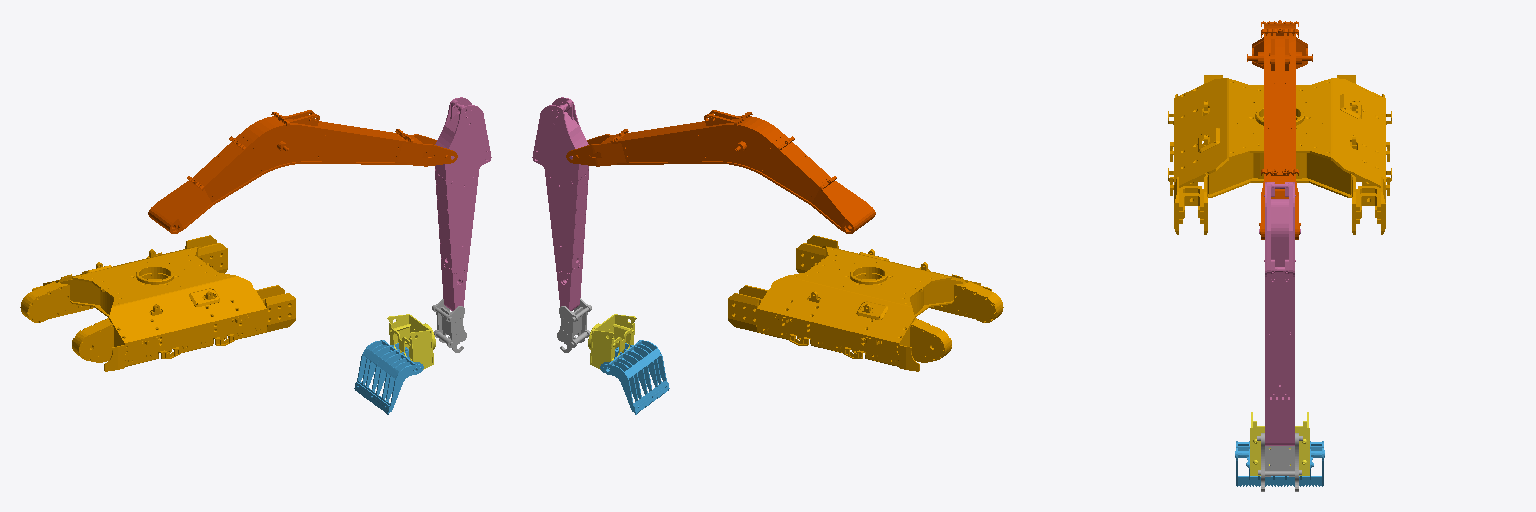
URDF robot description (excavator_urdf_ros2_ready):
<?xml version="1.0" encoding="UTF-8"?>
<!--
  excavator_urdf_ros2_ready.urdf
  Mini excavator robot description for ROS 2 / ros2_control.

  Unit conventions (URDF standard):
    Length  : metres
    Angle   : radians
    Mass    : kilograms
    Inertia : kg·m²
    Force   : N  |  Torque : N·m  |  Velocity : rad/s

  Kinematic chain (parent → child):
    excavator (base)
      └─ revolute_carriage  → upper_carriage   [continuous, Z-axis yaw]
           └─ revolute_lift → lift_boom         [revolute,   Y-axis pitch]
                └─ revolute_tilt → tilt_boom    [revolute,   Y-axis pitch]
                     └─ revolute_tool → tool_body [revolute, Y-axis pitch]
                          └─ gripper_to_tool (fixed) → gripper_mount
                               └─ revolute_gripper → gripper_frame [continuous, Z-axis spin]
                                    ├─ revolute_claw_1 → gripper_claw_1
                                    └─ revolute_claw_2 → gripper_claw_2

  Collision meshes:
    Currently pointing at the visual OBJ files (Isaac Sim export).
    Replace with dedicated convex-hull meshes once exported — see notes
    at the bottom of this file.

  ros2_control:
    Hardware plugin : mock_components/GenericSystem  (swap for real hw plugin)
    Interfaces      : position command + position/velocity state on all joints
-->
<robot name="excavator_urdf_ros2_ready">

  <!-- ═══════════════════════════════════════════════════════════════
       JOINTS
       All revolute velocity limits set to 10 RPM = 1.0472 rad/s.
       Effort limits are nominal placeholders; tune per actuator spec.
       ═══════════════════════════════════════════════════════════════ -->

  <!-- Fixed wrist bracket: attaches gripper_mount rigidly to tool_body -->
  <joint name="gripper_to_tool" type="fixed">
    <origin xyz="0.047 0.0 -0.019" rpy="0.0 0.0 0.0"/>
    <parent link="tool_body"/>
    <child link="gripper_mount"/>
  </joint>

  <!-- Slewing ring: full continuous rotation of upper carriage on base (Z) -->
  <joint name="revolute_carriage" type="continuous">
    <origin xyz="0.0 0.0 0.0" rpy="0.0 0.0 0.0"/>
    <parent link="excavator"/>
    <child link="upper_carriage"/>
    <axis xyz="0.0 0.0 1.0"/>
    <!-- continuous joints have no position limits; velocity = 10 RPM -->
    <limit effort="10000.0" velocity="1.0472"/>
  </joint>

  <!-- Gripper claw 1: opens from 0 to ~50 deg (positive direction) -->
  <joint name="revolute_claw_1" type="revolute">
    <origin xyz="0.0 0.025 -0.038" rpy="0.0 0.0 0.0"/>
    <parent link="gripper_frame"/>
    <child link="gripper_claw_1"/>
    <axis xyz="1.0 0.0 0.0"/>
    <limit lower="0.0" upper="0.8726646" effort="10000.0" velocity="1.0472"/>
  </joint>

  <!-- Gripper claw 2: mirrors claw 1 (negative direction) -->
  <joint name="revolute_claw_2" type="revolute">
    <origin xyz="0.0 -0.025 -0.038" rpy="0.0 0.0 0.0"/>
    <parent link="gripper_frame"/>
    <child link="gripper_claw_2"/>
    <axis xyz="1.0 0.0 0.0"/>
    <limit lower="-0.8726646" upper="0.0" effort="10000.0" velocity="1.0472"/>
  </joint>

  <!-- Gripper spin: continuous rotation of gripper frame around tool Z-axis -->
  <joint name="revolute_gripper" type="continuous">
    <origin xyz="-0.0105 0.0 -0.025" rpy="0.0 0.0 -1.5707964"/>
    <parent link="gripper_mount"/>
    <child link="gripper_frame"/>
    <axis xyz="0.0 0.0 1.0"/>
    <!-- continuous joints have no position limits; velocity = 10 RPM -->
    <limit effort="10000.0" velocity="1.0472"/>
  </joint>

  <!-- Lift boom: main shoulder pitch joint; initial pose ~ -0.7 rad -->
  <joint name="revolute_lift" type="revolute">
    <origin xyz="0.0165 0.0 0.0785" rpy="0.0 -0.455181869 0.0"/>
    <parent link="upper_carriage"/>
    <child link="lift_boom"/>
    <axis xyz="0.0 1.0 0.0"/>
    <limit lower="-0.8726646" upper="0.5235988" effort="10000.0" velocity="1.0472"/>
  </joint>

  <!-- Tilt boom: elbow pitch joint; initial pose ~ 2.2 rad -->
  <joint name="revolute_tilt" type="revolute">
    <origin xyz="0.42008 0.0 -0.20564" rpy="0.0 0.455181869 0.0"/>
    <parent link="lift_boom"/>
    <child link="tilt_boom"/>
    <axis xyz="0.0 1.0 0.0"/>
    <limit lower="0.4886922" upper="2.5132741" effort="10000.0" velocity="1.0472"/>
  </joint>

  <!-- Tool pitch: wrist pitch joint; initial pose ~ -0.7 rad -->
  <joint name="revolute_tool" type="revolute">
    <origin xyz="0.2499999 0.0 -0.0025" rpy="0.0 0.0 0.0"/>
    <parent link="tilt_boom"/>
    <child link="tool_body"/>
    <axis xyz="0.0 1.0 0.0"/>
    <limit lower="-1.4835299" upper="1.2217305" effort="10000.0" velocity="1.0472"/>
  </joint>


  <!-- ═══════════════════════════════════════════════════════════════
       LINKS
       Each link carries: inertial, visual (OBJ), and collision (OBJ).
       NOTE: collision meshes currently reuse visual OBJs — see notes
       at the bottom for the recommended replacement workflow.
       ═══════════════════════════════════════════════════════════════ -->

  <!-- Base link: lower chassis / tracks; treated as world-fixed in simulation -->
  <link name="excavator">
    <inertial>
      <origin xyz="0.0045939 -0.0001728 -0.0382546" rpy="0.0 0.0 0.0"/>
      <mass value="6.5"/>
      <inertia ixx="0.049442"  ixy="0.0005321"  ixz="0.0005431"
               iyy="0.0529756" iyz="-0.0000344"
               izz="0.0970931"/>
    </inertial>
    <visual>
      <!-- Isaac Sim exports Y-up OBJs; -90 deg roll corrects to Z-up URDF convention -->
      <origin xyz="0.0 0.0 0.0" rpy="-1.5707964 0.0 0.0"/>
      <geometry>
        <mesh filename="package://kaivuri_description/robot/meshes/excavator_visuals_Mesh.obj" scale="1.0 1.0 1.0"/>
      </geometry>
    </visual>
    <collision>
      <!-- TODO: replace with dedicated convex-hull mesh (see file notes) -->
      <origin xyz="0.0 0.0 0.0" rpy="-1.5707964 0.0 0.0"/>
      <geometry>
        <mesh filename="package://kaivuri_description/robot/meshes/excavator_visuals_Mesh.obj" scale="1.0 1.0 1.0"/>
      </geometry>
    </collision>
  </link>

  <!-- Gripper claw 1 (opens in +X direction) -->
  <link name="gripper_claw_1">
    <inertial>
      <origin xyz="-0.00019 0.0062462 -0.0327046" rpy="0.0 0.0 0.0"/>
      <mass value="0.21596"/>
      <inertia ixx="0.0001736"  ixy="-0.0000001" ixz="0.0000012"
               iyy="0.0003253"  iyz="-0.0000481"
               izz="0.000232"/>
    </inertial>
    <visual>
      <origin xyz="0.0 0.0 0.0" rpy="0.0 0.6283185 -1.5707964"/>
      <geometry>
        <mesh filename="package://kaivuri_description/robot/meshes/gripper_claw_1_visuals_Mesh.obj" scale="1.0 1.0 1.0"/>
      </geometry>
    </visual>
    <collision>
      <!-- TODO: replace with dedicated convex-hull mesh (see file notes) -->
      <origin xyz="0.0 0.0 0.0" rpy="0.0 0.6283185 -1.5707964"/>
      <geometry>
        <mesh filename="package://kaivuri_description/robot/meshes/gripper_claw_1_visuals_Mesh.obj" scale="1.0 1.0 1.0"/>
      </geometry>
    </collision>
  </link>

  <!-- Gripper claw 2 (opens in -X direction, symmetric to claw 1) -->
  <link name="gripper_claw_2">
    <inertial>
      <origin xyz="0.00019 -0.0062462 -0.0327046" rpy="0.0 0.0 0.0"/>
      <mass value="0.21596"/>
      <inertia ixx="0.0001736"  ixy="-0.0000001" ixz="-0.0000012"
               iyy="0.0003253"  iyz="0.0000481"
               izz="0.000232"/>
    </inertial>
    <visual>
      <origin xyz="0.0 0.0 0.0" rpy="0.0 0.6283185 1.5707964"/>
      <geometry>
        <mesh filename="package://kaivuri_description/robot/meshes/gripper_claw_2_visuals_Mesh.obj" scale="1.0 1.0 1.0"/>
      </geometry>
    </visual>
    <collision>
      <!-- TODO: replace with dedicated convex-hull mesh (see file notes) -->
      <origin xyz="0.0 0.0 0.0" rpy="0.0 0.6283185 1.5707964"/>
      <geometry>
        <mesh filename="package://kaivuri_description/robot/meshes/gripper_claw_2_visuals_Mesh.obj" scale="1.0 1.0 1.0"/>
      </geometry>
    </collision>
  </link>

  <!-- Gripper frame: structural ring connecting the two claws -->
  <link name="gripper_frame">
    <inertial>
      <origin xyz="0.0 0.0 -0.02261" rpy="0.0 0.0 0.0"/>
      <mass value="0.07586"/>
      <inertia ixx="0.0000321" ixy="0.0" ixz="0.0"
               iyy="0.0000572" iyz="0.0"
               izz="0.0000607"/>
    </inertial>
    <visual>
      <origin xyz="0.0 0.0 0.0" rpy="0.0 0.0 0.0"/>
      <geometry>
        <mesh filename="package://kaivuri_description/robot/meshes/gripper_frame_visuals_Mesh.obj" scale="1.0 1.0 1.0"/>
      </geometry>
    </visual>
    <collision>
      <!-- TODO: replace with dedicated convex-hull mesh (see file notes) -->
      <origin xyz="0.0 0.0 0.0" rpy="0.0 0.0 0.0"/>
      <geometry>
        <mesh filename="package://kaivuri_description/robot/meshes/gripper_frame_visuals_Mesh.obj" scale="1.0 1.0 1.0"/>
      </geometry>
    </collision>
  </link>

  <!-- Gripper mount: bracket that interfaces tool_body to gripper_frame -->
  <link name="gripper_mount">
    <inertial>
      <origin xyz="-0.01131 0.0 -0.01542" rpy="0.0 0.0 0.0"/>
      <mass value="0.06983"/>
      <inertia ixx="0.0000177" ixy="0.0"       ixz="0.0000006"
               iyy="0.0000127" iyz="0.0"
               izz="0.0000198"/>
    </inertial>
    <visual>
      <origin xyz="0.0 0.0 0.0" rpy="0.0 0.0 0.0"/>
      <geometry>
        <mesh filename="package://kaivuri_description/robot/meshes/gripper_mount_visuals_Mesh.obj" scale="1.0 1.0 1.0"/>
      </geometry>
    </visual>
    <collision>
      <!-- TODO: replace with dedicated convex-hull mesh (see file notes) -->
      <origin xyz="0.0 0.0 0.0" rpy="0.0 0.0 0.0"/>
      <geometry>
        <mesh filename="package://kaivuri_description/robot/meshes/gripper_mount_visuals_Mesh.obj" scale="1.0 1.0 1.0"/>
      </geometry>
    </collision>
  </link>

  <!-- Lift boom: main arm segment from shoulder to elbow (~0.42 m long) -->
  <link name="lift_boom">
    <inertial>
      <origin xyz="0.199811 -0.000094 -0.044468" rpy="0.0 0.0 0.0"/>
      <mass value="1.15299"/>
      <inertia ixx="0.0049344" ixy="0.0000021" ixz="0.0072827"
               iyy="0.021352"  iyz="0.0000036"
               izz="0.0167196"/>
    </inertial>
    <visual>
      <origin xyz="0.0 0.0 0.0" rpy="0.0 0.0 0.0"/>
      <geometry>
        <mesh filename="package://kaivuri_description/robot/meshes/lift_boom_visuals_Mesh.obj" scale="1.0 1.0 1.0"/>
      </geometry>
    </visual>
    <collision>
      <!-- TODO: replace with dedicated convex-hull mesh (see file notes) -->
      <origin xyz="0.0 0.0 0.0" rpy="0.0 0.0 0.0"/>
      <geometry>
        <mesh filename="package://kaivuri_description/robot/meshes/lift_boom_visuals_Mesh.obj" scale="1.0 1.0 1.0"/>
      </geometry>
    </collision>
  </link>

  <!-- Tilt boom: forearm segment from elbow to wrist (~0.25 m long) -->
  <link name="tilt_boom">
    <inertial>
      <origin xyz="0.06505 -0.00005 0.01784" rpy="0.0 0.0 0.0"/>
      <mass value="0.77626"/>
      <inertia ixx="0.00036"   ixy="0.0"  ixz="0.000676"
               iyy="0.0060442" iyz="0.0"
               izz="0.005863"/>
    </inertial>
    <visual>
      <origin xyz="0.0 0.0 0.0" rpy="0.0 0.0 0.0"/>
      <geometry>
        <mesh filename="package://kaivuri_description/robot/meshes/tilt_boom_visuals_Mesh.obj" scale="1.0 1.0 1.0"/>
      </geometry>
    </visual>
    <collision>
      <!-- TODO: replace with dedicated convex-hull mesh (see file notes) -->
      <origin xyz="0.0 0.0 0.0" rpy="0.0 0.0 0.0"/>
      <geometry>
        <mesh filename="package://kaivuri_description/robot/meshes/tilt_boom_visuals_Mesh.obj" scale="1.0 1.0 1.0"/>
      </geometry>
    </collision>
  </link>

  <!-- Tool body: quick-coupler / tool interface plate -->
  <link name="tool_body">
    <inertial>
      <origin xyz="0.0265998 0.0 -0.0101976" rpy="0.0 0.0 0.0"/>
      <mass value="0.137"/>
      <inertia ixx="0.0000403" ixy="0.0"       ixz="0.0000048"
               iyy="0.0000601" iyz="0.0"
               izz="0.0000815"/>
    </inertial>
    <visual>
      <origin xyz="0.0 0.0 0.0" rpy="0.0 0.0 0.0"/>
      <geometry>
        <mesh filename="package://kaivuri_description/robot/meshes/tool_body_visuals_Mesh.obj" scale="1.0 1.0 1.0"/>
      </geometry>
    </visual>
    <collision>
      <!-- TODO: replace with dedicated convex-hull mesh (see file notes) -->
      <origin xyz="0.0 0.0 0.0" rpy="0.0 0.0 0.0"/>
      <geometry>
        <mesh filename="package://kaivuri_description/robot/meshes/tool_body_visuals_Mesh.obj" scale="1.0 1.0 1.0"/>
      </geometry>
    </collision>
  </link>

  <!-- Upper carriage: rotating superstructure (cabin, engine, arm base) -->
  <link name="upper_carriage">
    <inertial>
      <origin xyz="-0.0821657 0.0013232 0.0460171" rpy="0.0 0.0 0.0"/>
      <mass value="8.1"/>
      <inertia ixx="0.0446463"  ixy="-0.0058658" ixz="0.0002102"
               iyy="0.0700401"  iyz="-0.0020342"
               izz="0.095637"/>
    </inertial>
    <visual>
      <!-- Isaac Sim Y-up correction: -90 deg roll -->
      <origin xyz="0.0 0.0 0.0" rpy="-1.5707964 0.0 0.0"/>
      <geometry>
        <mesh filename="package://kaivuri_description/robot/meshes/upper_carriage_visuals_Mesh.obj" scale="1.0 1.0 1.0"/>
      </geometry>
    </visual>
    <collision>
      <!-- TODO: replace with dedicated convex-hull mesh (see file notes) -->
      <origin xyz="0.0 0.0 0.0" rpy="-1.5707964 0.0 0.0"/>
      <geometry>
        <mesh filename="package://kaivuri_description/robot/meshes/upper_carriage_visuals_Mesh.obj" scale="1.0 1.0 1.0"/>
      </geometry>
    </collision>
  </link>


  <!-- ═══════════════════════════════════════════════════════════════
       ROS 2 CONTROL
       Plugin : mock_components/GenericSystem  (for testing / sim)
       Replace with your real hardware plugin before deployment.

       All joints expose:
         - command interface : position
         - state interfaces  : position, velocity

       Initial positions reflect a compact "parked" pose:
         lift  : -0.7 rad  (arm lowered)
         tilt  :  2.2 rad  (elbow folded)
         tool  : -0.7 rad  (wrist tucked)
         rest  :  0.0 rad
       ═══════════════════════════════════════════════════════════════ -->
  <ros2_control name="initial_positions" type="system">
    <hardware>
      <plugin>mock_components/GenericSystem</plugin>
    </hardware>

    <!-- Slewing ring — starts at home (0 rad) -->
    <joint name="revolute_carriage">
      <command_interface name="position"/>
      <state_interface name="position">
        <param name="initial_value">0</param>
      </state_interface>
      <state_interface name="velocity"/>
    </joint>

    <!-- Gripper claw 1 — starts closed (0 rad) -->
    <joint name="revolute_claw_1">
      <command_interface name="position"/>
      <state_interface name="position">
        <param name="initial_value">0</param>
      </state_interface>
      <state_interface name="velocity"/>
    </joint>

    <!-- Gripper claw 2 — starts closed (0 rad) -->
    <joint name="revolute_claw_2">
      <command_interface name="position"/>
      <state_interface name="position">
        <param name="initial_value">0</param>
      </state_interface>
      <state_interface name="velocity"/>
    </joint>

    <!-- Gripper spin — starts at home (0 rad) -->
    <joint name="revolute_gripper">
      <command_interface name="position"/>
      <state_interface name="position">
        <param name="initial_value">0</param>
      </state_interface>
      <state_interface name="velocity"/>
    </joint>

    <!-- Lift boom — starts lowered (-0.7 rad) -->
    <joint name="revolute_lift">
      <command_interface name="position"/>
      <state_interface name="position">
        <param name="initial_value">-0.7</param>
      </state_interface>
      <state_interface name="velocity"/>
    </joint>

    <!-- Tilt boom — starts folded (2.2 rad) -->
    <joint name="revolute_tilt">
      <command_interface name="position"/>
      <state_interface name="position">
        <param name="initial_value">2.2</param>
      </state_interface>
      <state_interface name="velocity"/>
    </joint>

    <!-- Tool pitch — starts tucked (-0.7 rad) -->
    <joint name="revolute_tool">
      <command_interface name="position"/>
      <state_interface name="position">
        <param name="initial_value">-0.7</param>
      </state_interface>
      <state_interface name="velocity"/>
    </joint>

  </ros2_control>

</robot>

<!--
  ═══════════════════════════════════════════════════════════════════════
  COLLISION MESH NOTES — Isaac Sim → URDF workflow
  ═══════════════════════════════════════════════════════════════════════

  CURRENT STATE
  ─────────────
  Every <collision> element points at the same OBJ as the <visual>.
  This works but means the physics engine is colliding against the full
  high-poly visual mesh, which is slow and can cause tunnelling on thin
  parts (boom arms, claws).

  WHY YOUR CONVEX-HULL MESHES DIDN'T APPEAR
  ──────────────────────────────────────────
  Isaac Sim's URDF exporter (as of Isaac Sim 4.x / USD Asset Structure 3.0)
  exports collision geometry only when the USD prim has:
    - Purpose = "guide"  AND  collision API applied
      OR
    - A dedicated PhysicsCollisionAPI + ConvexHullMeshCollisionAPI prim
      that is a *separate* child of the rigid body prim.

  If your collision prims are children of the visual mesh prim instead of
  the rigid body prim, the exporter silently drops them.

  RECOMMENDED WORKFLOW
  ─────────────────────
  Option A — Re-export from Isaac Sim (cleanest)
    1. In the USD stage, for each rigid body, create a separate child prim
       of type "Mesh" with Purpose="guide".
    2. Apply PhysicsCollisionAPI and PhysicsMeshCollisionAPI (set to
       "convexHull") to that prim.
    3. Make it a child of the XForm/rigid-body prim, NOT of the visual mesh.
    4. Re-run the URDF exporter — it should now emit separate collision
       filenames (e.g. excavator_collision_Mesh.obj).

  Option B — Post-process the OBJs with V-HACD (recommended for complex shapes)
    pip install coacd   # or use standalone v-hacd binary
    For each visual OBJ run:
      coacd -i meshes/lift_boom_visuals_Mesh.obj \
            -o meshes/lift_boom_collision.obj
    Then update each <collision> filename in this URDF.

  Option C — Use primitive shapes (fastest simulation, lowest fidelity)
    Replace <mesh> tags in <collision> with URDF primitives:
      <box size="0.42 0.05 0.06"/>        ← for lift_boom
      <cylinder radius="0.02" length="0.25"/>  ← for tilt_boom
      etc.
    Adjust <origin> to centre each primitive on the link's CoM.

  FOR NOW
  ───────
  The TODO comments above each <collision> block mark every mesh that
  needs replacing. Search "TODO" to find them all.
  ═══════════════════════════════════════════════════════════════════════
-->

--- Render facts (derived) ---
The picture shows the robot from 3 angles, left to right: view 1: azimuth 30°, elevation 25°; view 2: azimuth 150°, elevation 25°; view 3: azimuth 270°, elevation 25°; orthographic projection.
Robot: excavator_urdf_ros2_ready — 9 links, 8 joints (5 revolute, 2 continuous, 1 fixed); root link excavator; default pose: all joints at 0 but 1 set to mid-range because 0 is outside their limits (revolute_tilt = 1.5).
Visible links, largest first — view 1: excavator, lift_boom, tilt_boom, gripper_claw_1, gripper_frame, tool_body; view 2: excavator, lift_boom, tilt_boom, gripper_claw_1, gripper_frame, tool_body; view 3: excavator, tilt_boom, lift_boom, tool_body, gripper_claw_1, gripper_frame.
Boxes of the visible links, bbox=[...] form: excavator: bbox=[20, 235, 295, 371]; lift_boom: bbox=[148, 110, 457, 233]; tilt_boom: bbox=[435, 97, 491, 310]; gripper_claw_1: bbox=[354, 340, 423, 414]; gripper_frame: bbox=[387, 314, 435, 369]; tool_body: bbox=[432, 299, 466, 352]; excavator: bbox=[728, 235, 1003, 371]; lift_boom: bbox=[566, 110, 875, 233]; tilt_boom: bbox=[532, 97, 588, 310]; gripper_claw_1: bbox=[600, 340, 669, 414]; gripper_frame: bbox=[588, 314, 636, 369]; tool_body: bbox=[557, 298, 591, 352]; excavator: bbox=[1168, 75, 1391, 234]; tilt_boom: bbox=[1259, 182, 1300, 445]; lift_boom: bbox=[1247, 20, 1312, 239]; tool_body: bbox=[1257, 433, 1302, 491]; gripper_claw_1: bbox=[1235, 441, 1324, 486]; gripper_frame: bbox=[1250, 412, 1309, 475].
Bounding box of the posed robot: 0.7286 × 0.2498 × 0.4938 m (x, y, z).
6 mesh visuals loaded from 9 distinct referenced files (6 OBJ); not drawn: 3 (reference not matched to a file when rendering).
